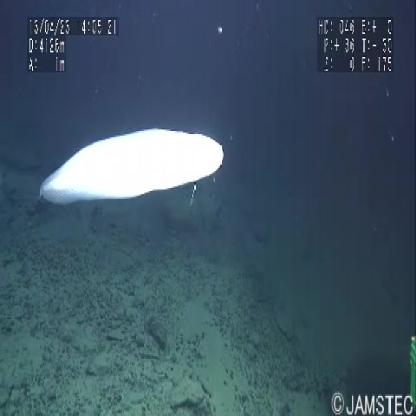Bio: (34, 120, 228, 214)
